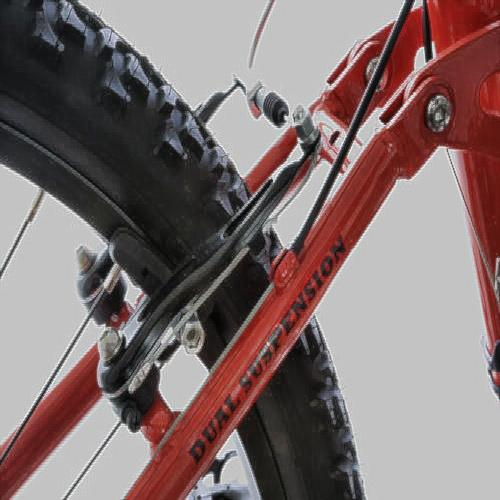bicycle: (24, 13, 484, 466)
